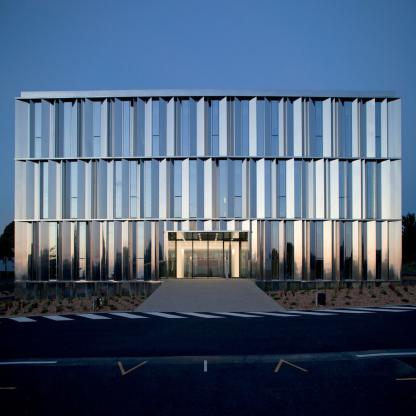Building Outline: (15, 89, 402, 301)
Door: (224, 241, 239, 279)
Door Hole: (168, 233, 248, 279)
Facade: (15, 97, 401, 282)
Floor: (15, 166, 401, 221)
Floor Slab: (15, 221, 401, 227), (15, 160, 401, 166)
Glass Wall: (168, 233, 248, 279)
Ground Floor: (15, 227, 401, 282)
Top Floor: (15, 97, 401, 160)
Window: (366, 160, 374, 219), (375, 98, 382, 157), (65, 99, 72, 158), (123, 98, 130, 157), (153, 98, 160, 157), (183, 98, 190, 157), (212, 98, 219, 157), (235, 98, 242, 157), (272, 98, 279, 157), (257, 98, 264, 157), (316, 98, 323, 157), (345, 98, 352, 157), (94, 99, 101, 157), (175, 160, 182, 218), (36, 99, 42, 158), (375, 221, 381, 280), (72, 160, 78, 219), (43, 161, 49, 220), (50, 221, 56, 280), (80, 221, 86, 280), (108, 221, 114, 280), (138, 221, 144, 280), (273, 221, 279, 280), (288, 221, 294, 280), (317, 221, 323, 280), (346, 221, 352, 280), (116, 160, 122, 218), (131, 160, 137, 218), (145, 160, 151, 218), (190, 160, 196, 218), (220, 160, 226, 218), (235, 160, 241, 218), (279, 160, 285, 218), (295, 160, 301, 218), (339, 160, 345, 218), (265, 160, 271, 218)
